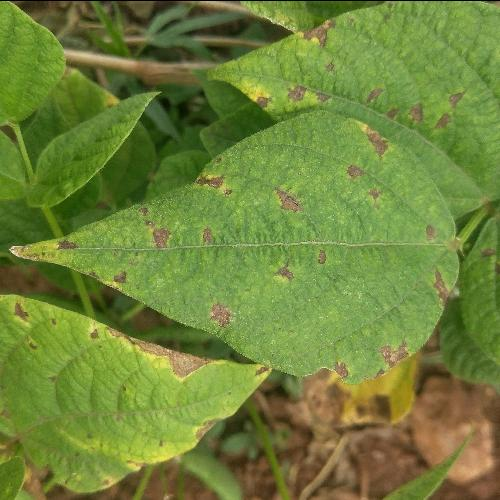hawar: (111, 262, 381, 426), (254, 74, 460, 228)
